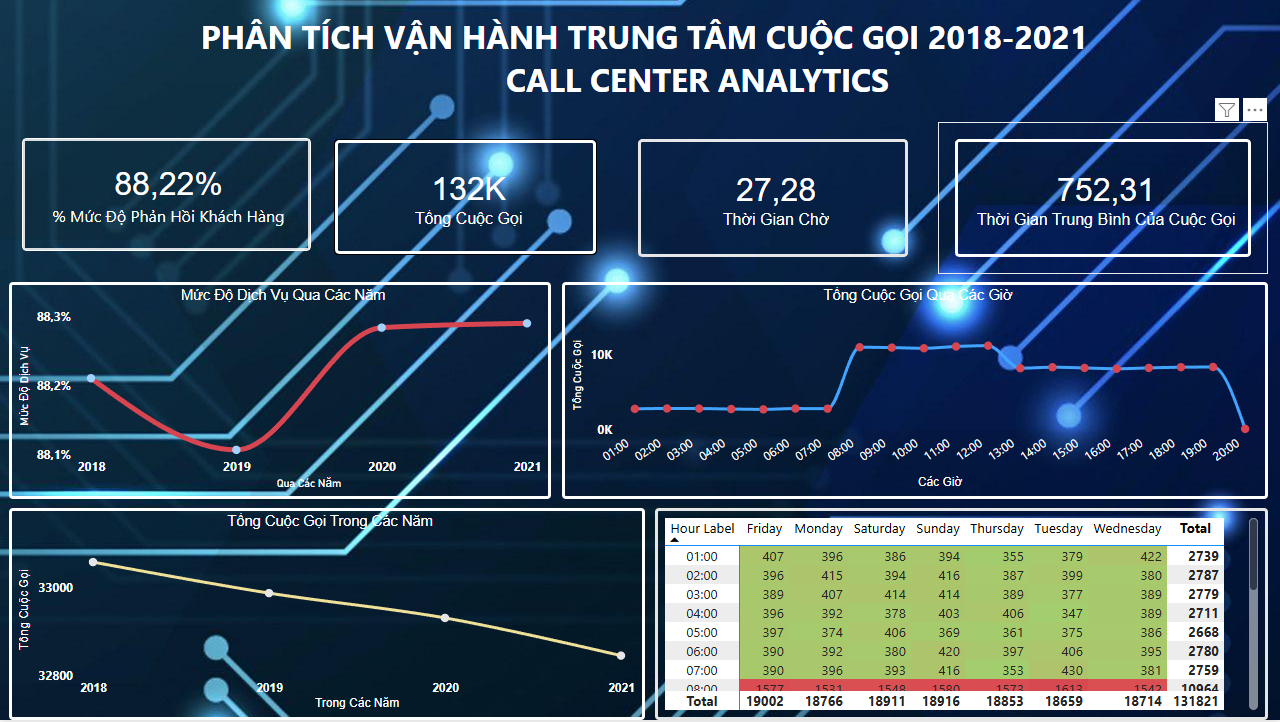

The page's visual inventory and layout, read from the dashboard file:
{"tool":"powerbi","page":{"name":"Page 1","canvas":[1280,720],"ordinal":0},"visuals":[{"type":"textbox","box":[9.5,8.6,1270.5,131.1],"z":0},{"type":"cardVisual","fields":{"Data":["CCA.SLA %"]},"box":[16.4,132,301,125.1],"z":1000},{"type":"cardVisual","fields":{"Data":["CCA.Total Calls"]},"box":[317.4,121.6,296.7,150.1],"z":2000},{"type":"cardVisual","fields":{"Data":["CCA.Average Wait"]},"box":[621,121.6,304.5,152.7],"z":3000},{"type":"cardVisual","fields":{"Data":["CCA.Average Duration"]},"box":[937.6,121.6,330.4,152.7],"z":4000},{"type":"lineChart","title":"Mức Độ Dịch Vụ  Qua Các Năm","fields":{"Category":["Calendar.Year"],"Y":["CCA.SLA %"]},"box":[9.5,282,541.7,217.4],"z":5000},{"type":"lineChart","title":"Tổng Cuộc Gọi  Trong Các Năm","fields":{"Category":["Calendar.Year"],"Y":["CCA.Total Calls"]},"box":[8.6,508,636.5,212.2],"z":6000},{"type":"lineChart","title":"Tổng Cuộc Gọi Qua Các Giờ","fields":{"Category":["CCA.Hour Label"],"Y":["CCA.Total Calls"]},"box":[561.5,282,706.4,217.4],"z":7000},{"type":"pivotTable","fields":{"Rows":["CCA.Hour Label"],"Columns":["Calendar.Weekday"],"Values":["CCA.Total Calls"]},"box":[654.7,508,613.3,212.2],"z":8000}]}

Visuals, with their boxes in screenshot pixels (x1, y1, x2, y2), scaled from the page's 1280x720 canvas onto the 1280x722 screenshot:
textbox: x1=10, y1=9, x2=1279, y2=140
cardVisual - CCA.SLA %: x1=16, y1=132, x2=317, y2=258
cardVisual - CCA.Total Calls: x1=317, y1=122, x2=614, y2=272
cardVisual - CCA.Average Wait: x1=621, y1=122, x2=926, y2=275
cardVisual - CCA.Average Duration: x1=938, y1=122, x2=1268, y2=275
"Mức Độ Dịch Vụ  Qua Các Năm" lineChart: x1=10, y1=283, x2=551, y2=501
"Tổng Cuộc Gọi  Trong Các Năm" lineChart: x1=9, y1=509, x2=645, y2=721
"Tổng Cuộc Gọi Qua Các Giờ" lineChart: x1=562, y1=283, x2=1268, y2=501
pivotTable - CCA.Hour Label x Calendar.Weekday: x1=655, y1=509, x2=1268, y2=721
